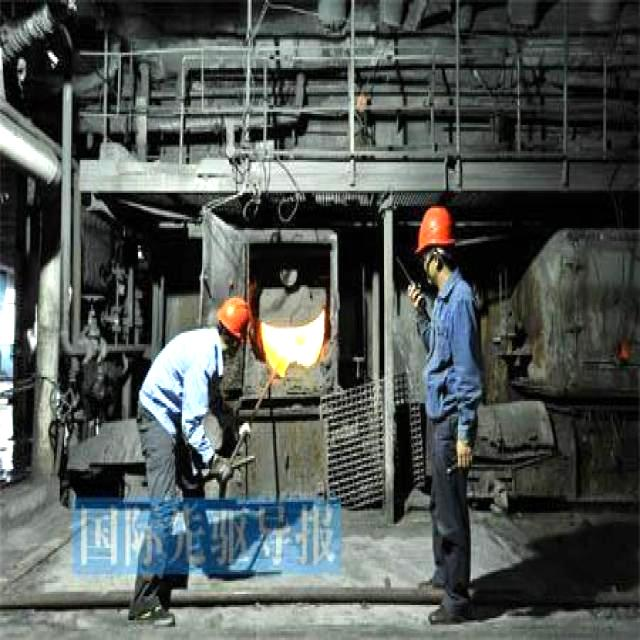hard_hat: (415, 206, 454, 250), (218, 296, 250, 338)
person: (130, 289, 263, 625), (415, 206, 482, 620), (115, 618, 190, 630), (126, 565, 138, 619), (137, 619, 172, 622)
